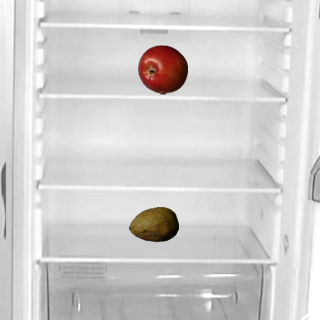Apple Braeburn: (137, 44, 187, 94)
Papaya: (128, 199, 178, 249)
